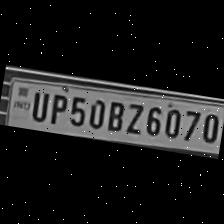0: (198, 109, 222, 145), (160, 104, 184, 139), (84, 95, 107, 131)
5: (64, 92, 90, 128)
6: (141, 102, 164, 137)
7: (179, 106, 201, 143)
B: (103, 98, 126, 134)
P: (47, 89, 70, 126)
U: (26, 86, 51, 122)
Z: (122, 99, 146, 136)
